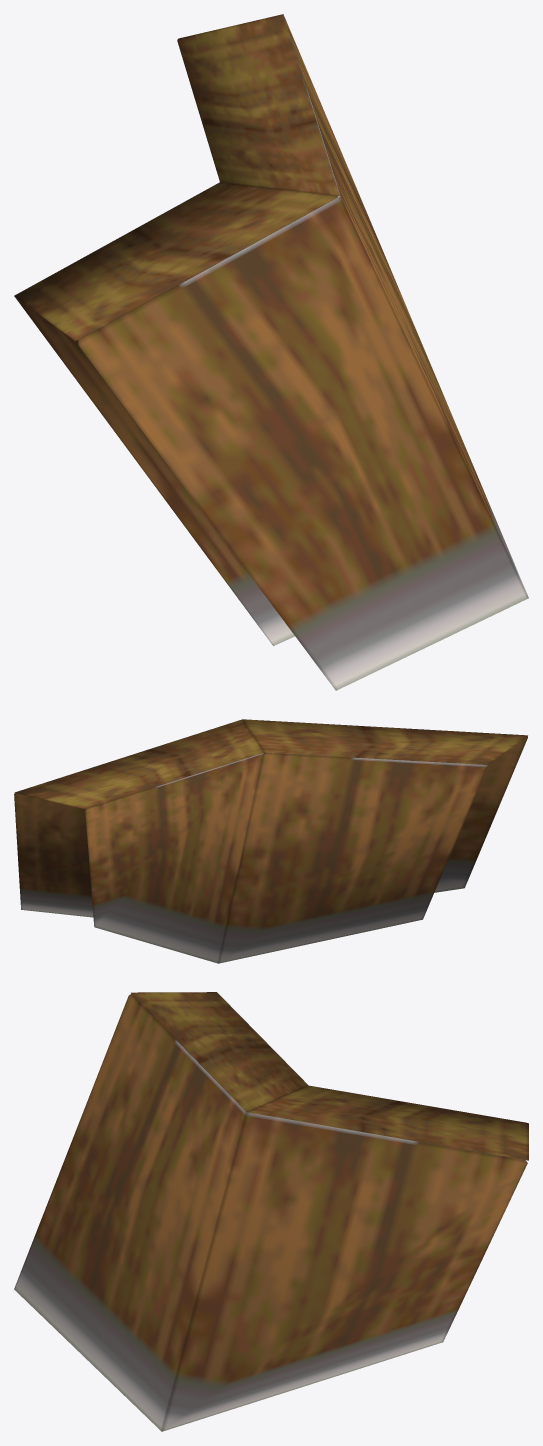
3 views of the same model, one above another, from view 1: azimuth 30°, elevation 25°; view 2: azimuth 150°, elevation 25°; view 3: azimuth 270°, elevation 25° (orthographic). The views are drawn at different scales.
Visible parts, largest first — view 1: T1L2M008_35; view 2: T1L2M008_35; view 3: T1L2M008_35.
Part boxes in pixels (x1,y1,x2,y2): T1L2M008_35: [14, 14, 528, 690]; T1L2M008_35: [14, 719, 527, 963]; T1L2M008_35: [14, 992, 528, 1431].
Size of the model in its own units: 0.9287 by 0.6455 by 1.08.
Materials: 1 (1 with a texture image).
